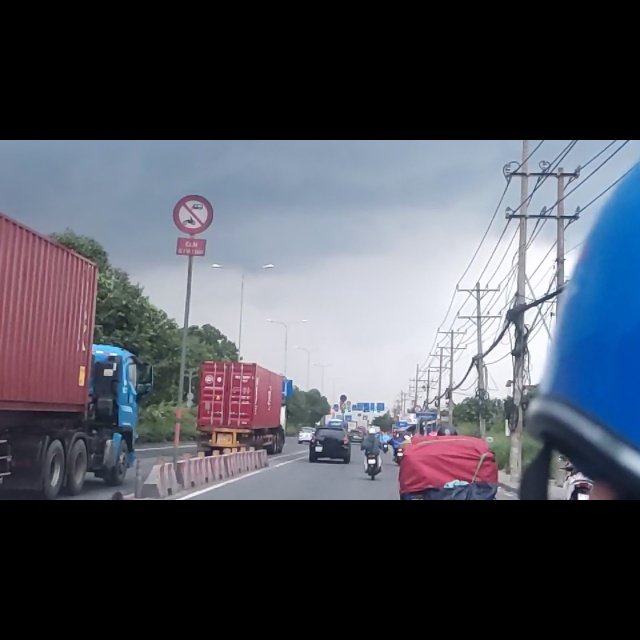bien_nguy_hiem: (172, 96, 214, 167)
